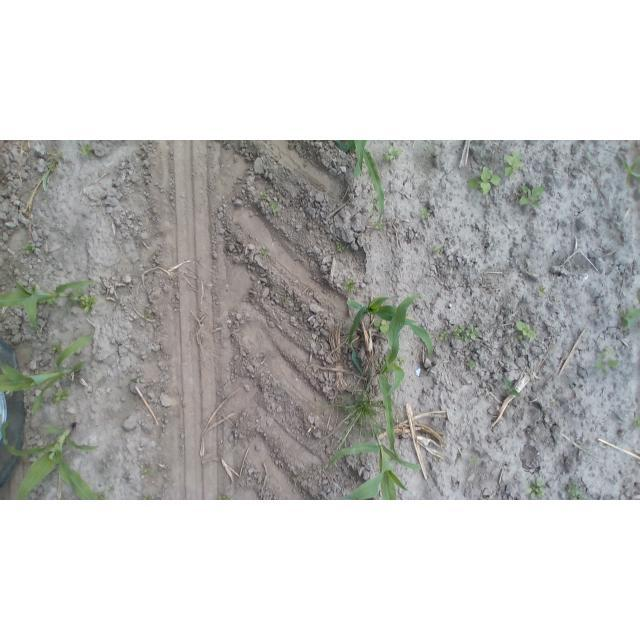Maize: (377, 294, 427, 458), (1, 420, 99, 501), (0, 332, 94, 412), (346, 294, 434, 375), (326, 425, 418, 500), (1, 273, 96, 335), (330, 141, 386, 228), (618, 153, 640, 183)
Weeds: (325, 376, 384, 446), (467, 167, 502, 196), (519, 184, 543, 209), (595, 352, 618, 376), (619, 305, 640, 329), (504, 151, 523, 177), (526, 476, 546, 500), (453, 324, 479, 342), (516, 321, 536, 341), (502, 378, 521, 399), (565, 481, 585, 500), (80, 294, 99, 314), (51, 389, 72, 405), (385, 146, 404, 161), (374, 319, 389, 335), (80, 143, 95, 158), (368, 192, 377, 217), (68, 288, 84, 302), (344, 279, 356, 293), (23, 243, 35, 254), (394, 359, 408, 368), (420, 209, 431, 220), (96, 490, 108, 500), (468, 453, 478, 465), (373, 220, 384, 230), (537, 285, 547, 296), (336, 241, 346, 252), (261, 246, 270, 258), (269, 200, 277, 212), (53, 343, 62, 353), (434, 245, 443, 254), (440, 332, 449, 341), (467, 360, 475, 370), (634, 416, 640, 429), (429, 148, 436, 159), (139, 468, 151, 474), (140, 496, 154, 501), (260, 191, 268, 199), (49, 162, 56, 171), (604, 347, 613, 354), (219, 495, 230, 500), (48, 301, 57, 306), (109, 487, 115, 494), (57, 150, 63, 155), (284, 297, 291, 301), (375, 361, 379, 366), (550, 400, 554, 403)
